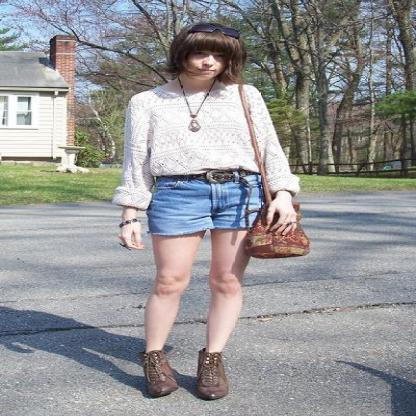bag: (237, 198, 309, 259)
jacket: (116, 83, 298, 207)
shoe: (124, 344, 233, 400)
shorts: (118, 163, 276, 235)
sunglass: (190, 20, 245, 48)
